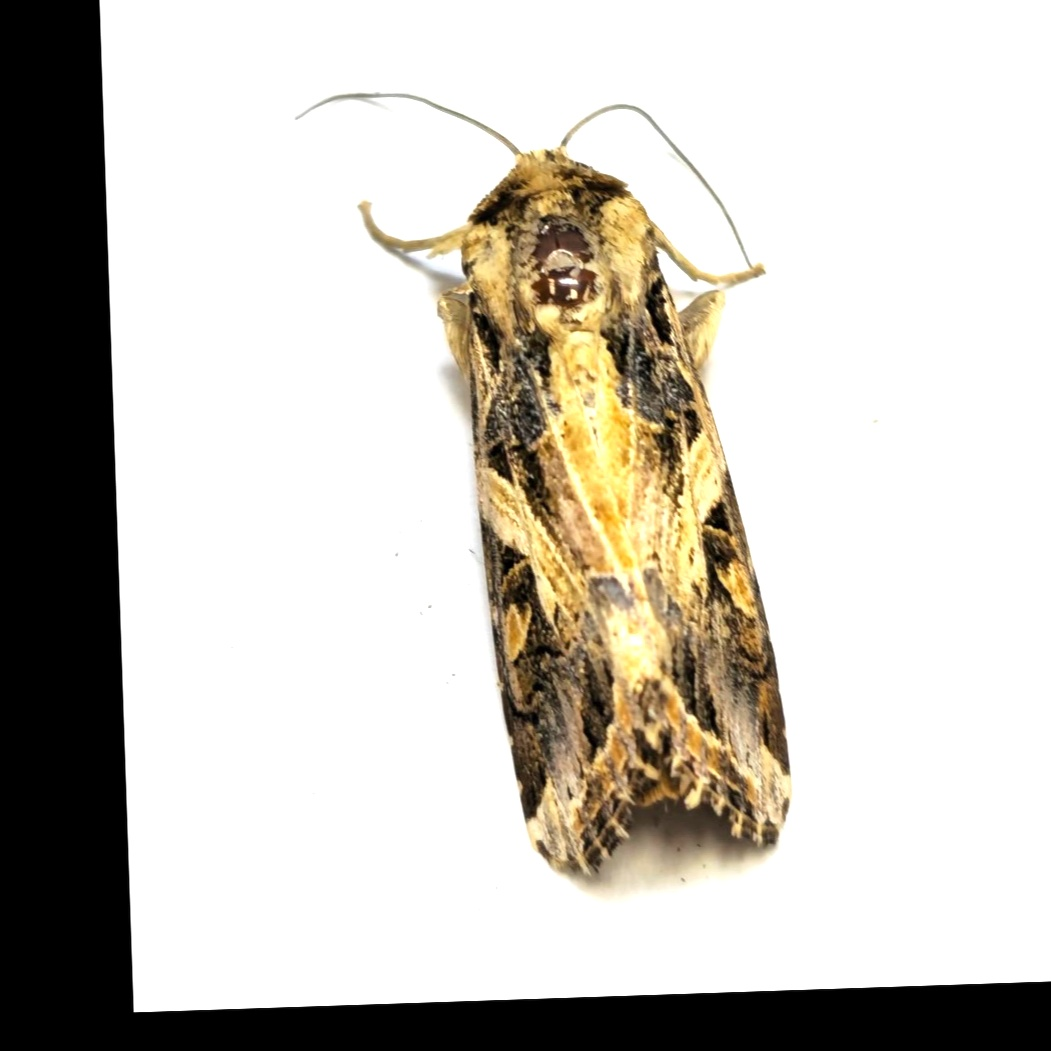Spodoptera litura: (306, 84, 782, 880)
